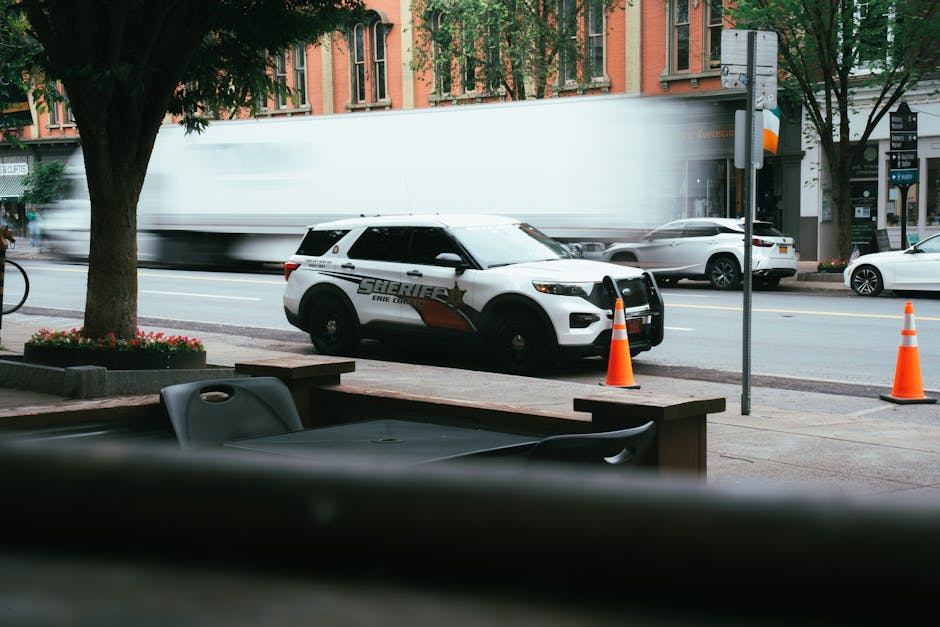traffic_cone: (879, 300, 939, 405), (598, 296, 641, 389)
